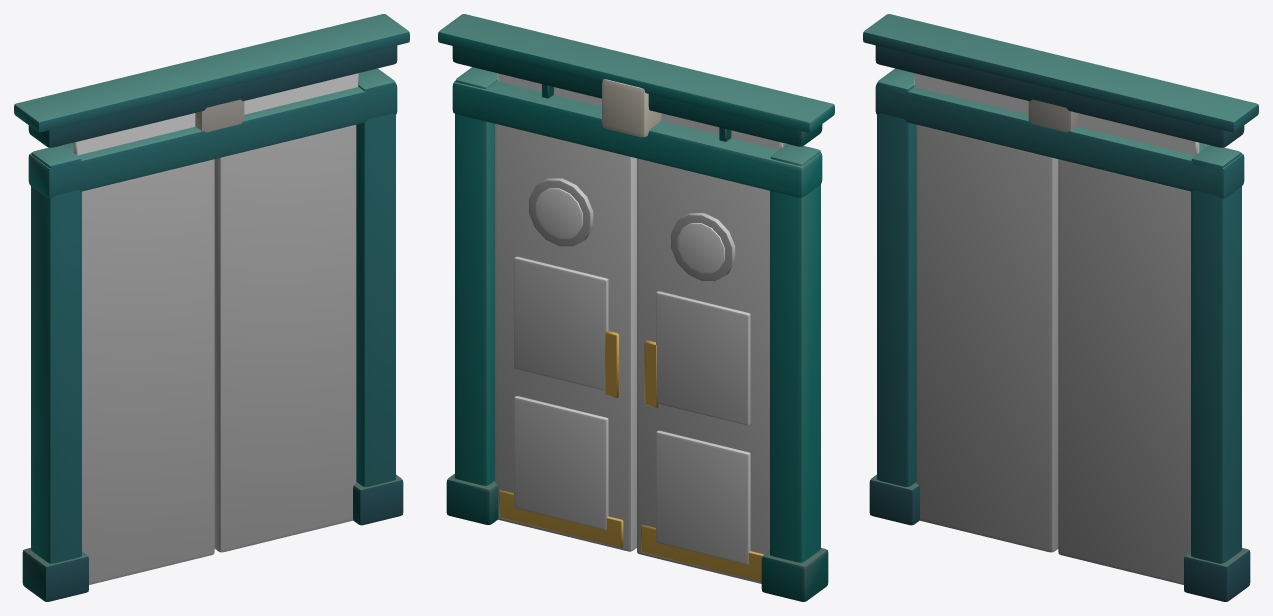
Rendered from LobbyDoor.fbx.
3 views of the same model, side by side, from view 1: azimuth 30°, elevation 25°; view 2: azimuth 150°, elevation 25°; view 3: azimuth 330°, elevation 25° (orthographic).
Parts seen in each view (by area): view 1: SM_Bld_LobbyDoor_Leaf, SM_Bld_LobbyDoor_Frame, SM_Bld_LobbyDoor_Glow; view 2: SM_Bld_LobbyDoor_Leaf, SM_Bld_LobbyDoor_Frame, SM_Bld_LobbyDoor_Hardware, SM_Bld_LobbyDoor_Glow; view 3: SM_Bld_LobbyDoor_Leaf, SM_Bld_LobbyDoor_Frame, SM_Bld_LobbyDoor_Glow.
Boxes of the visible parts, x1=… form: SM_Bld_LobbyDoor_Leaf: x1=82, y1=125, x2=356, y2=584; SM_Bld_LobbyDoor_Frame: x1=14, y1=14, x2=409, y2=601; SM_Bld_LobbyDoor_Glow: x1=73, y1=73, x2=358, y2=155; SM_Bld_LobbyDoor_Leaf: x1=495, y1=123, x2=769, y2=583; SM_Bld_LobbyDoor_Frame: x1=438, y1=14, x2=834, y2=601; SM_Bld_LobbyDoor_Hardware: x1=499, y1=330, x2=763, y2=581; SM_Bld_LobbyDoor_Glow: x1=497, y1=73, x2=783, y2=273; SM_Bld_LobbyDoor_Leaf: x1=916, y1=125, x2=1190, y2=584; SM_Bld_LobbyDoor_Frame: x1=863, y1=14, x2=1258, y2=601; SM_Bld_LobbyDoor_Glow: x1=914, y1=73, x2=1199, y2=155.
Size of the model in its own units: 8.4 by 10.43 by 1.06.
